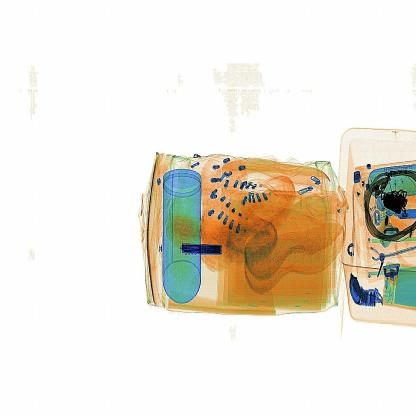scissors: (178, 238, 232, 263)
